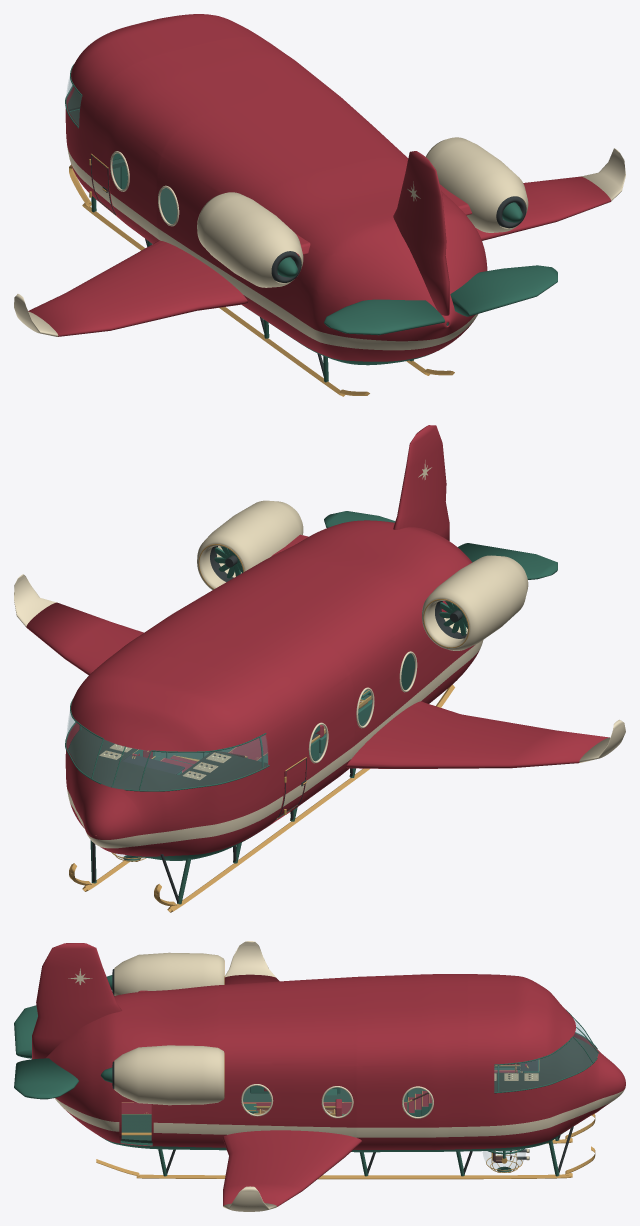
The model's file is north_star.glb.
3 views of the same model, one above another, from view 1: azimuth 30°, elevation 25°; view 2: azimuth 150°, elevation 25°; view 3: azimuth 270°, elevation 25° (orthographic). The views are drawn at different scales.
Parts seen in each view (by area): view 1: Cranberry enamel, Warm ivory enamel, Spruce lacquer, Ivory sign paint, Old brass, Parkerized iron, Deep spruce wool carpet; view 2: Cranberry enamel, Warm ivory enamel, Pale glacier glazing, Ivory sign paint, Spruce lacquer, Cockpit padded glare shield, Old brass, Parkerized iron, Cranberry wool aisle runner, Ivory cockpit instrument panels; view 3: Cranberry enamel, Warm ivory enamel, Ivory sign paint, Spruce lacquer, Pale glacier glazing, Old brass, Cockpit padded glare shield, Deep spruce wool carpet, Cranberry wool aisle runner, Parkerized iron, Turret crystal glass.
Boxes of the visible parts, box(x1,y1,x2,y2) form: Cranberry enamel: box(28, 14, 611, 361); Warm ivory enamel: box(197, 137, 528, 287); Spruce lacquer: box(65, 64, 557, 382); Ivory sign paint: box(14, 147, 625, 350); Old brass: box(69, 153, 454, 396); Parkerized iron: box(145, 196, 526, 376); Deep spruce wool carpet: box(112, 158, 448, 325); Cranberry enamel: box(26, 425, 609, 856); Warm ivory enamel: box(197, 500, 528, 729); Pale glacier glazing: box(66, 713, 267, 790); Ivory sign paint: box(14, 460, 625, 848); Spruce lacquer: box(65, 511, 557, 904); Cockpit padded glare shield: box(68, 727, 267, 790); Old brass: box(69, 544, 469, 912); Parkerized iron: box(92, 546, 466, 902); Cranberry wool aisle runner: box(160, 735, 267, 772); Ivory cockpit instrument panels: box(99, 744, 231, 780); Cranberry enamel: box(32, 943, 625, 1206); Warm ivory enamel: box(114, 952, 332, 1113); Ivory sign paint: box(54, 941, 624, 1211); Spruce lacquer: box(14, 975, 599, 1176); Pale glacier glazing: box(494, 1019, 597, 1091); Old brass: box(96, 960, 595, 1179); Cockpit padded glare shield: box(494, 1037, 597, 1092); Deep spruce wool carpet: box(120, 1067, 539, 1143); Cranberry wool aisle runner: box(121, 1070, 517, 1113); Parkerized iron: box(112, 969, 573, 1173); Turret crystal glass: box(483, 1148, 525, 1171).
Bounding box in the file's own units: 29 × 11.99 × 30.45.
33 materials, 2 textured.
